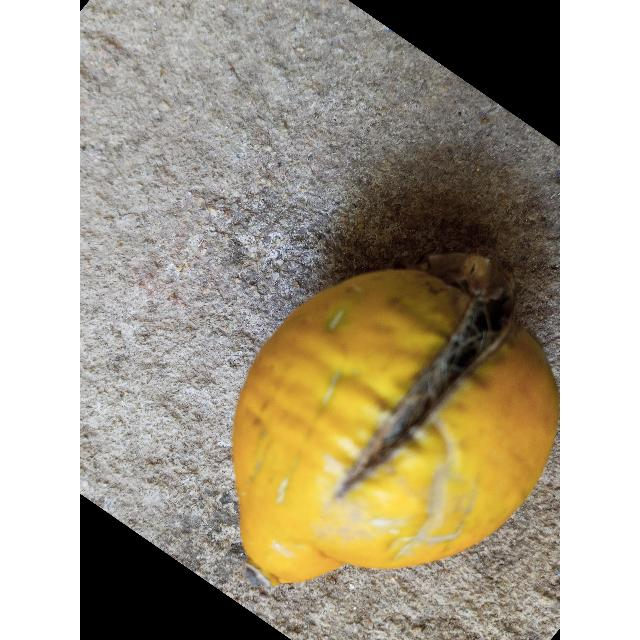damaged: (231, 259, 559, 588)
